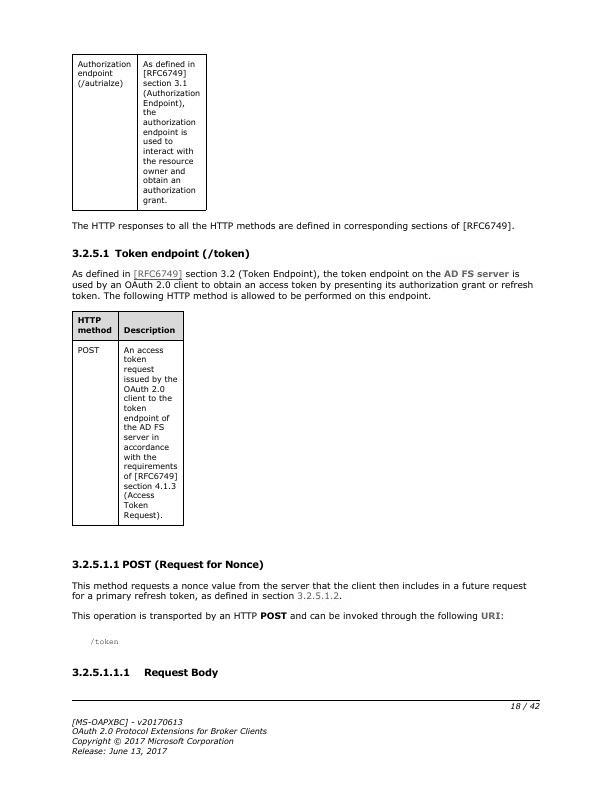table: (68, 309, 186, 528), (72, 52, 207, 213)
text: (68, 268, 540, 303), (67, 579, 530, 602), (70, 712, 272, 756), (69, 218, 516, 233), (70, 608, 507, 623), (69, 244, 255, 265), (68, 555, 268, 573), (67, 662, 221, 683), (88, 635, 119, 646)
